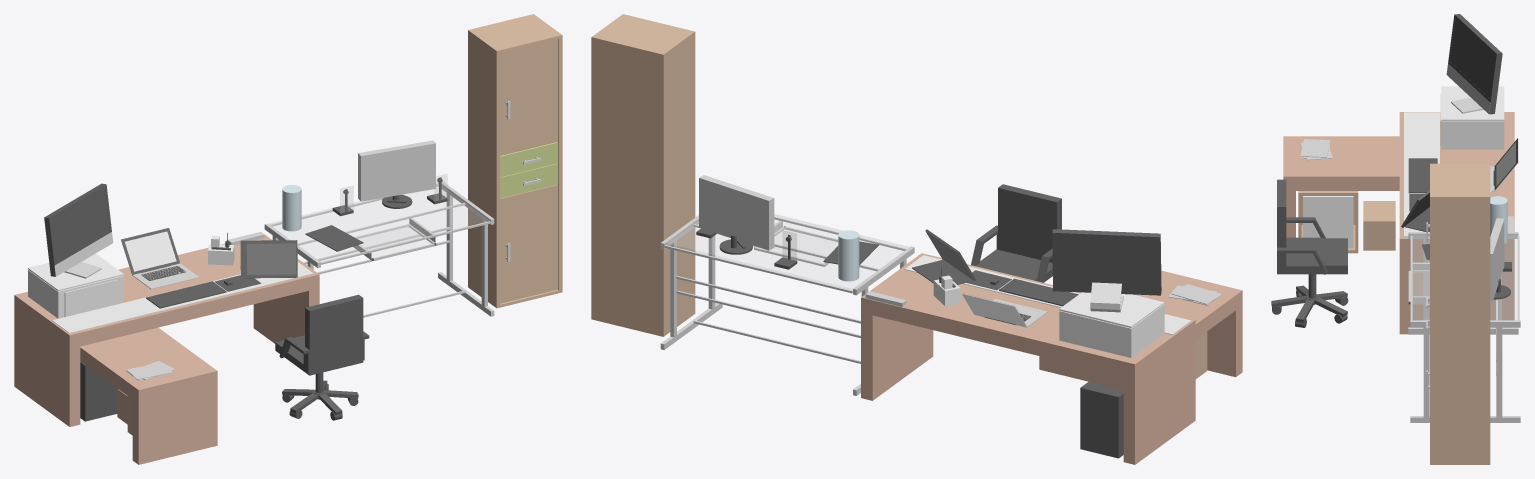
The model's file is studyroom3.glb.
3 renders of one model, left to right at view 1: azimuth 30°, elevation 25°; view 2: azimuth 150°, elevation 25°; view 3: azimuth 270°, elevation 25°, orthographic. The views are drawn at different scales.
Parts seen in each view (by area): view 1: Cube.078, Cube, Cube.023, Cube.008, Cube.080, Cube.001, Cube.004, Cube.003, PetitEcran, Cube.127, iMac, Cube.012 (+22 smaller); view 2: Cube.076, Cube, Cube.078, iMac, Cube.003, Cube.023, Cube.002, PetitEcran, Cube.001, Cube.127, Cube.007, Cube.016 (+15 smaller); view 3: Cube.084, Cube.001, Cube, Cube.023, iMac, Cube.002, Cube.012, Cube.069, Cube.083, Cube.128, Cube.007, Cube.017 (+22 smaller).
Boxes of the visible parts, left/top/right/bottom form: Cube.078: left=468, top=31, right=500, bottom=305; Cube: left=14, top=234, right=319, bottom=348; Cube.023: left=269, top=182, right=490, bottom=262; Cube.008: left=500, top=184, right=558, bottom=303; Cube.080: left=500, top=39, right=558, bottom=155; Cube.001: left=80, top=327, right=217, bottom=403; Cube.004: left=132, top=384, right=217, bottom=464; Cube.003: left=14, top=309, right=80, bottom=426; PetitEcran: left=358, top=140, right=435, bottom=201; Cube.127: left=305, top=294, right=363, bottom=367; iMac: left=44, top=183, right=109, bottom=276; Cube.012: left=52, top=262, right=313, bottom=333; Cube.076: left=595, top=38, right=659, bottom=332; Cube: left=861, top=253, right=1195, bottom=379; Cube.078: left=659, top=35, right=695, bottom=333; iMac: left=1052, top=229, right=1161, bottom=295; Cube.003: left=1123, top=335, right=1195, bottom=464; Cube.023: left=666, top=214, right=908, bottom=290; Cube.002: left=861, top=312, right=933, bottom=400; PetitEcran: left=699, top=175, right=774, bottom=250; Cube.001: left=1039, top=270, right=1242, bottom=389; Cube.127: left=998, top=184, right=1061, bottom=262; Cube.007: left=1059, top=304, right=1164, bottom=357; Cube.016: left=1080, top=381, right=1123, bottom=458; Cube.084: left=1430, top=195, right=1490, bottom=461; Cube.001: left=1283, top=136, right=1399, bottom=190; Cube: left=1399, top=112, right=1514, bottom=253; Cube.023: left=1410, top=234, right=1518, bottom=319; iMac: left=1450, top=14, right=1502, bottom=114; Cube.002: left=1399, top=253, right=1514, bottom=334; Cube.012: left=1404, top=112, right=1439, bottom=236; Cube.069: left=1303, top=196, right=1353, bottom=248; Cube.083: left=1430, top=163, right=1490, bottom=199; Cube.128: left=1277, top=238, right=1347, bottom=274; Cube.007: left=1441, top=121, right=1504, bottom=149; Cube.017: left=1363, top=201, right=1395, bottom=250.
Size of the model in its own units: 3.86 by 1.87 by 1.58.
